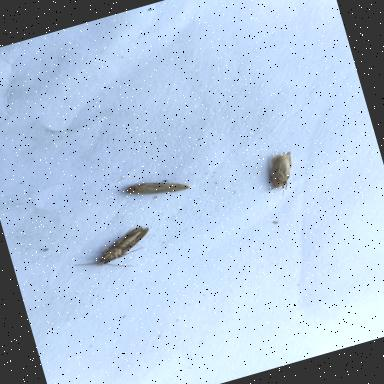pbw: (76, 224, 158, 272), (254, 147, 308, 195), (120, 172, 188, 207)
